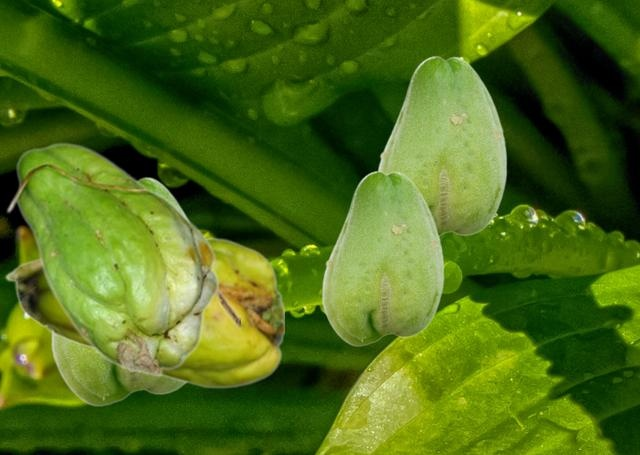sayote: (5, 142, 239, 376), (4, 237, 283, 388), (50, 175, 187, 405), (377, 55, 506, 236), (321, 170, 443, 345)
